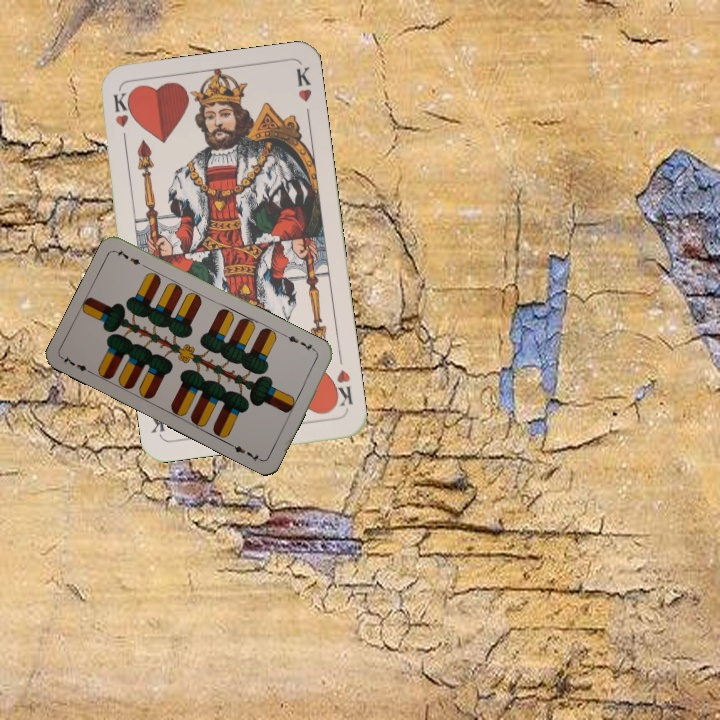E7: (58, 351, 96, 377), (282, 331, 320, 354)
HK: (109, 89, 132, 149), (327, 366, 355, 410)
